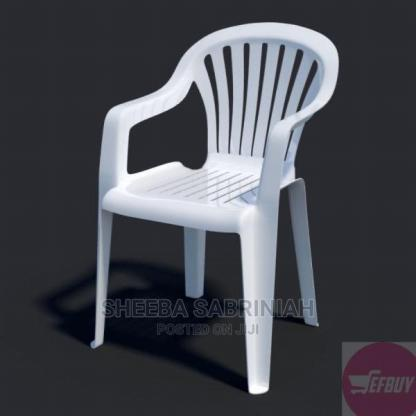chair: (85, 18, 329, 404)
